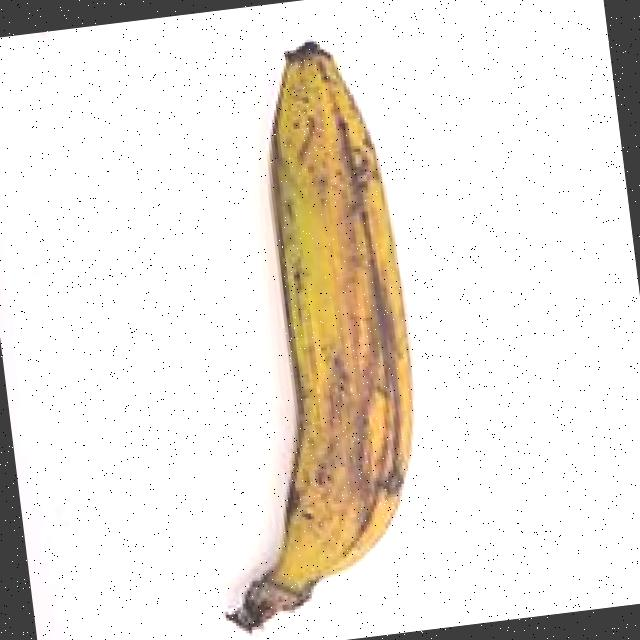Overripe: (137, 0, 484, 640)
